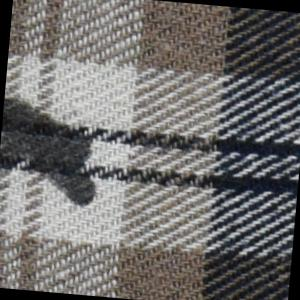Oil Stain: (1, 87, 110, 214)
